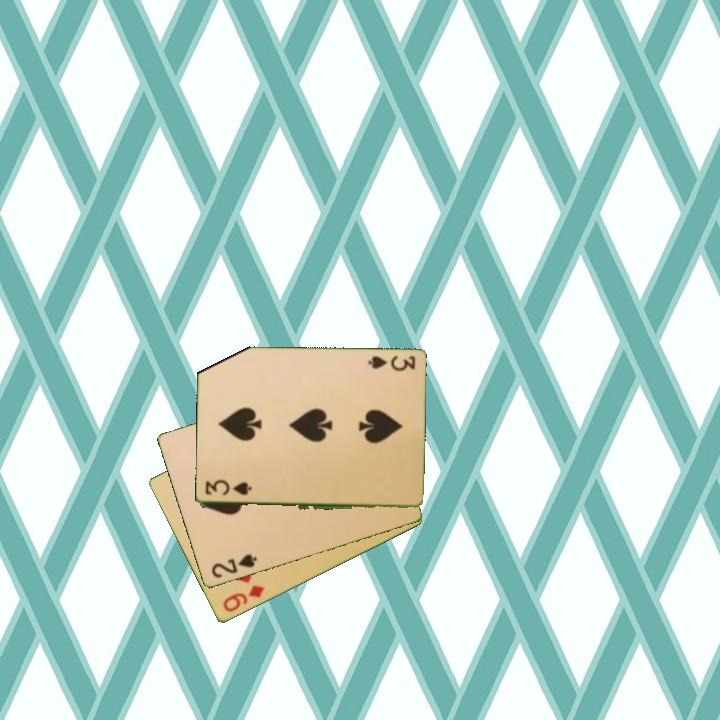2s: (208, 551, 260, 581)
3s: (364, 353, 418, 374), (201, 481, 254, 498)
9d: (219, 582, 268, 615)
